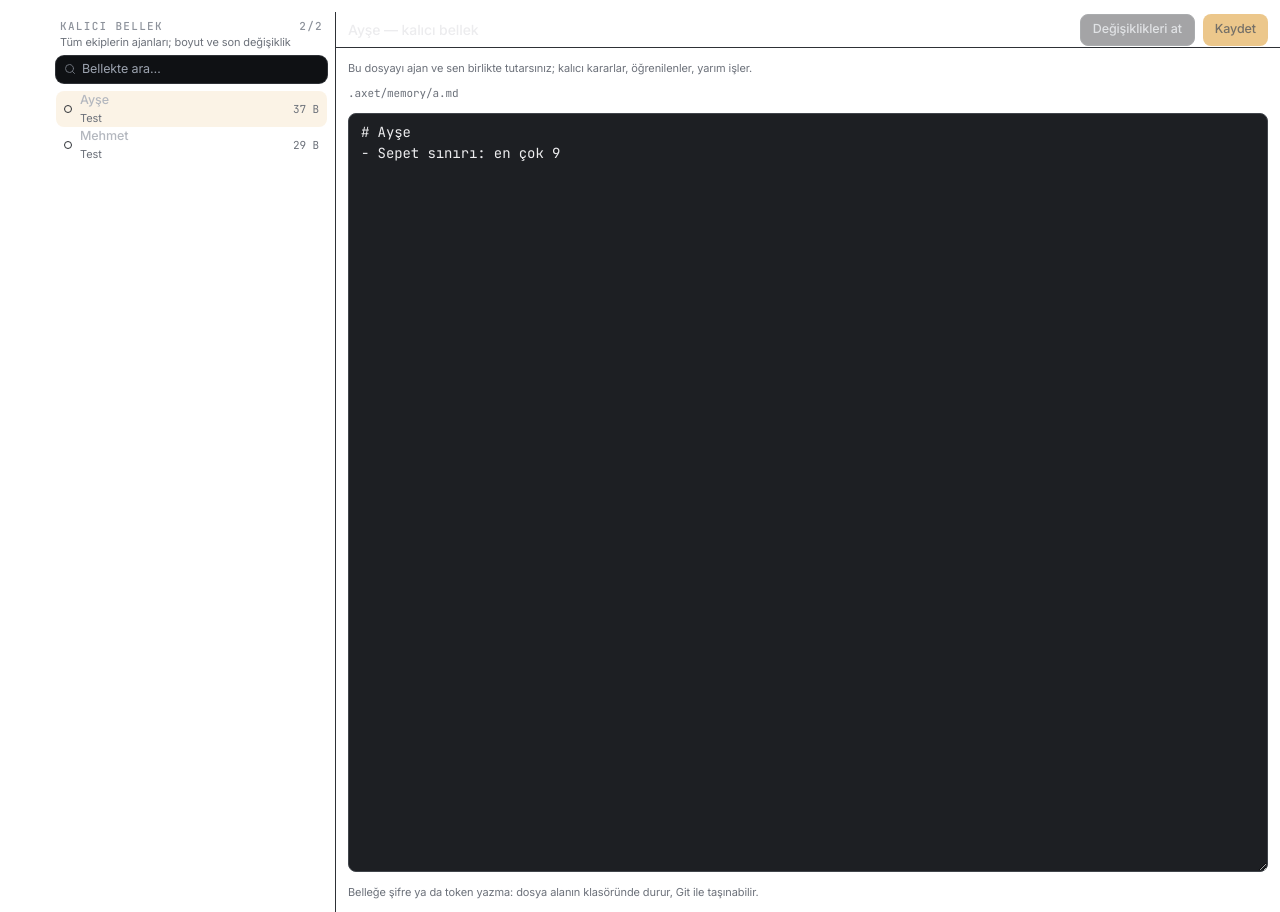
MemoryView › kirliyken başka ajana geçince taslak saklanıyor; geri dönünce metin ve 'geri getirildi' notu
Replace the text in the text box named "Ayşe — kalıcı bellek" with "yarım taslak" at (808, 492), box [348, 113, 1268, 872]
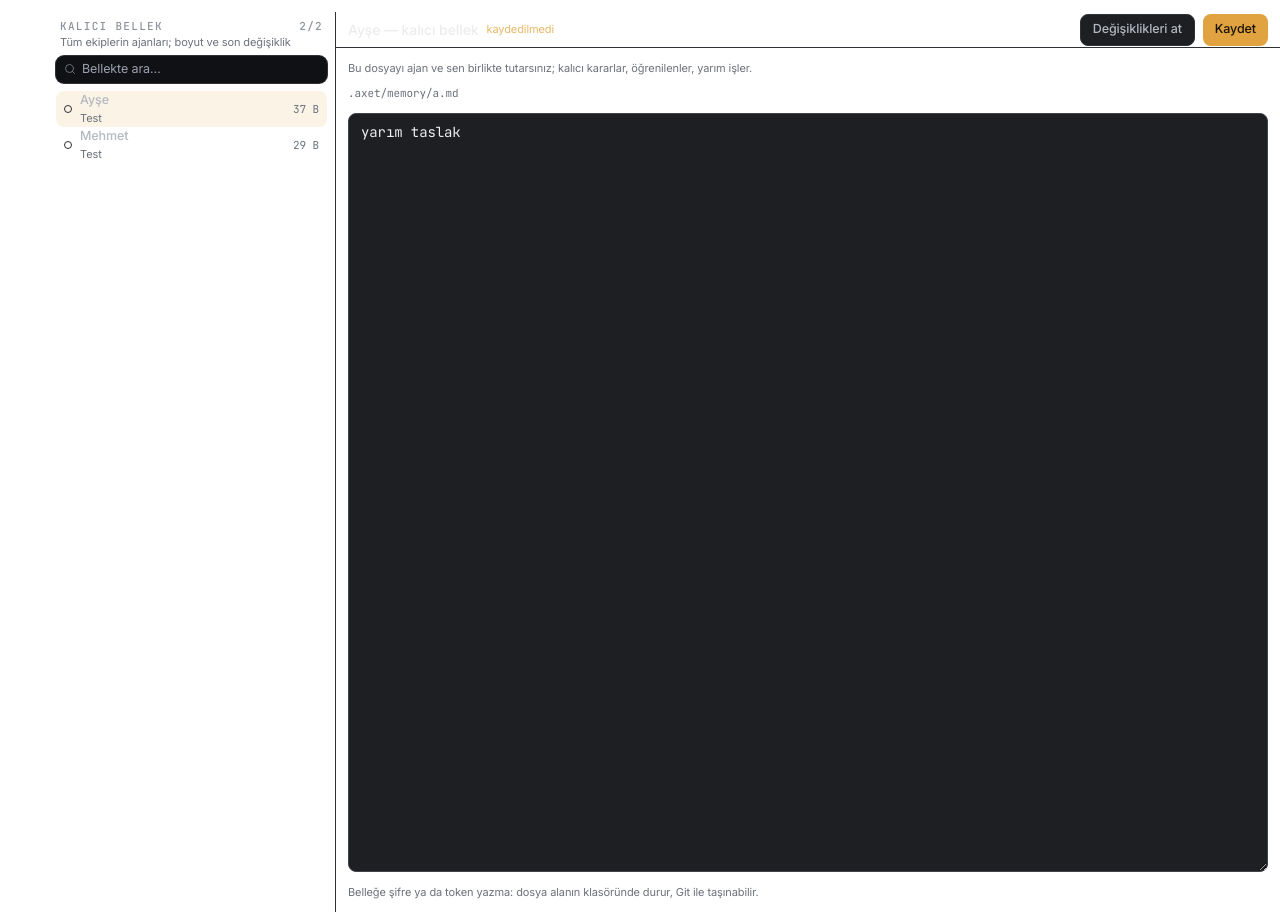
Click the button "Mehmet Test 29 B" at (104, 136), box [56, 127, 327, 163]
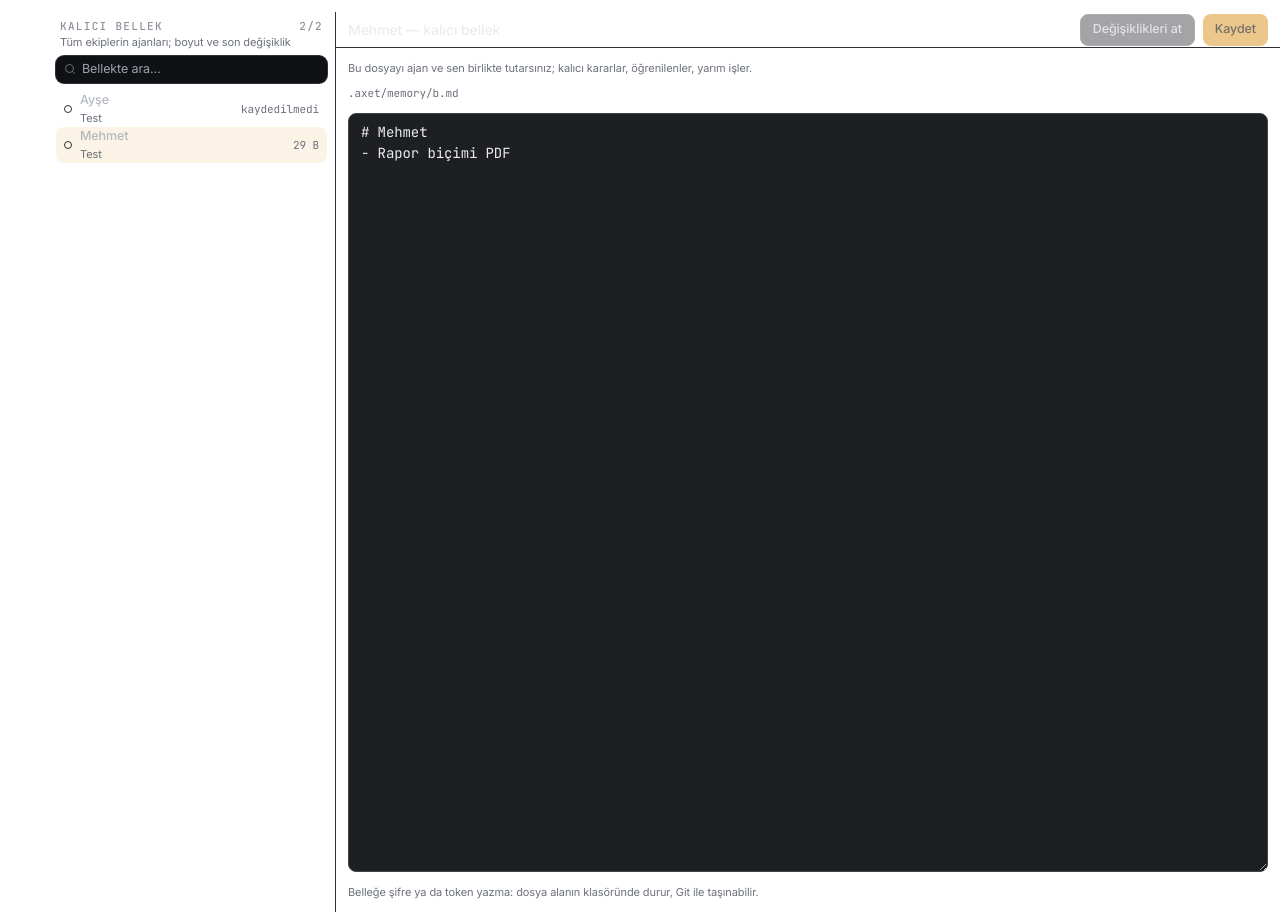
Check: the button "Ayşe Test kaydedilmedi" is shown
Click the button "Ayşe Test kaydedilmedi" at (280, 108), box [56, 91, 327, 127]
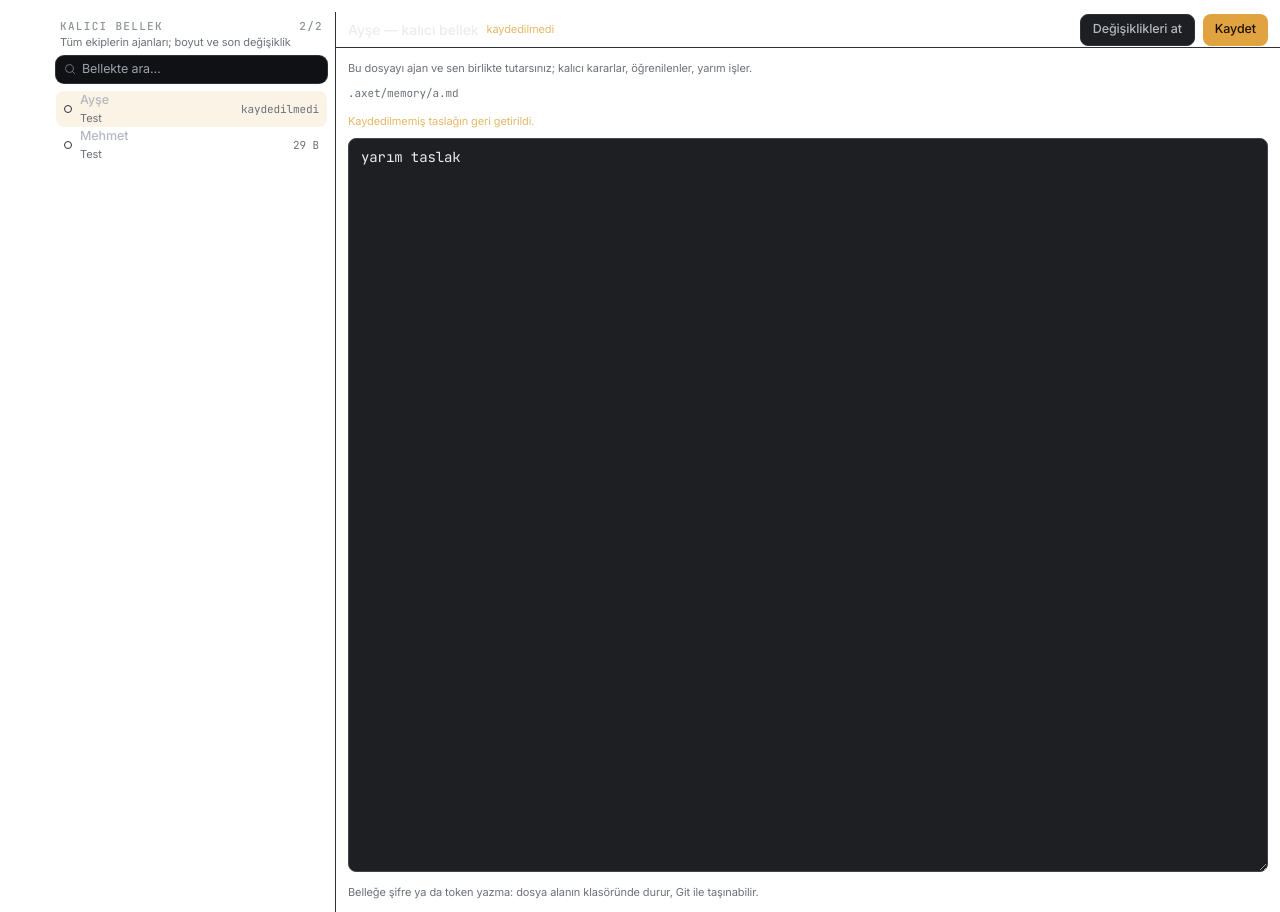
Check: the text box "Ayşe — kalıcı bellek" is shown, box [348, 138, 1268, 872]
